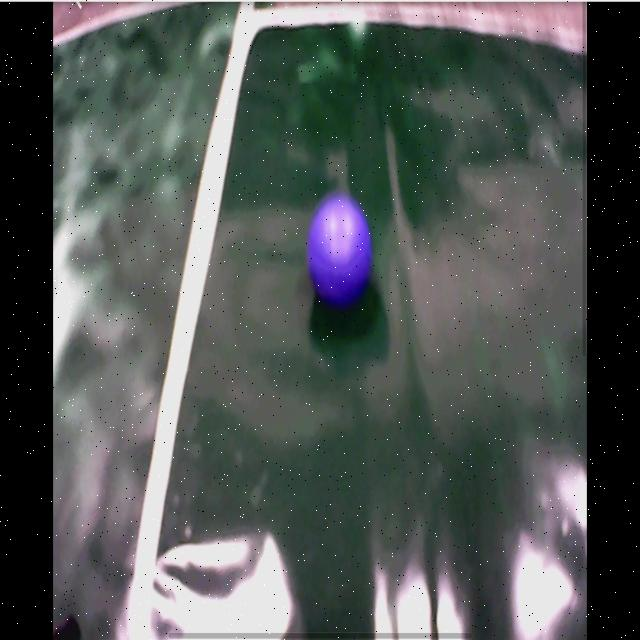ball: (308, 196, 373, 306)
